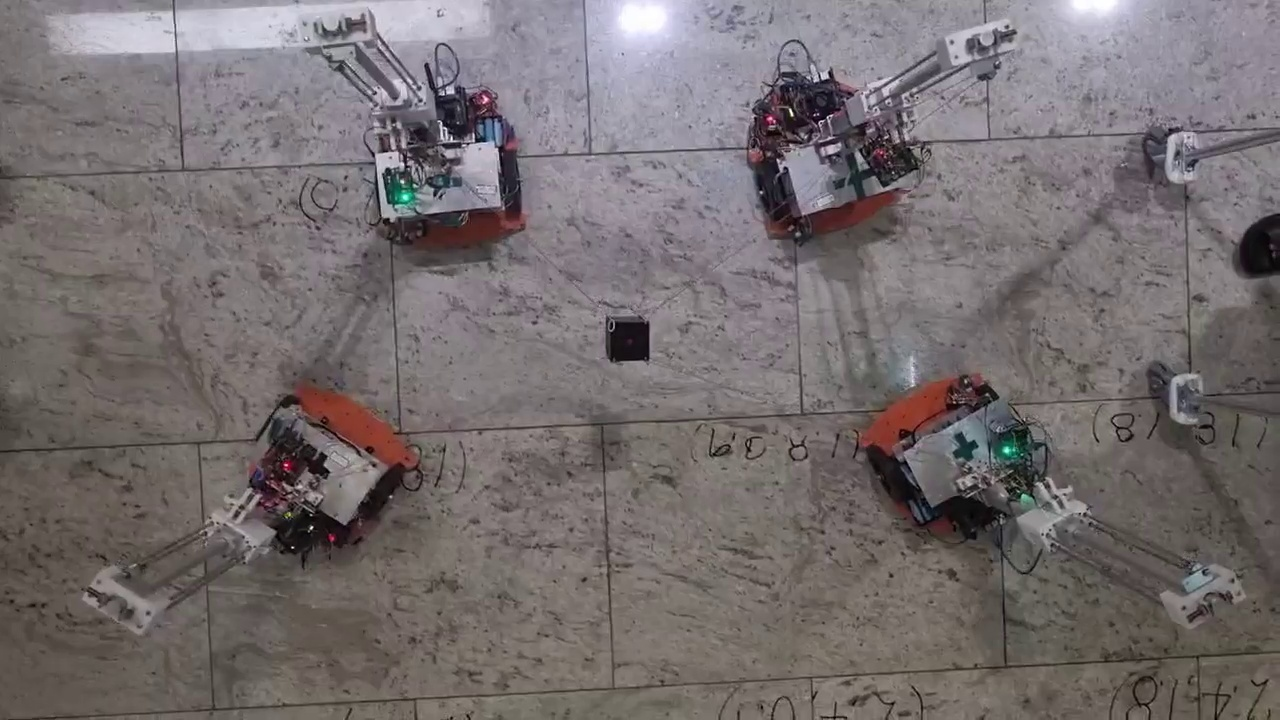e0: (609, 317, 650, 360)
r1: (868, 382, 1030, 503)
r2: (748, 126, 892, 218)
r3: (377, 150, 523, 219)
r4: (253, 394, 409, 520)
y_+_axis_vector: (590, 141, 990, 153)
y_-_axis_vector: (183, 154, 591, 171)
